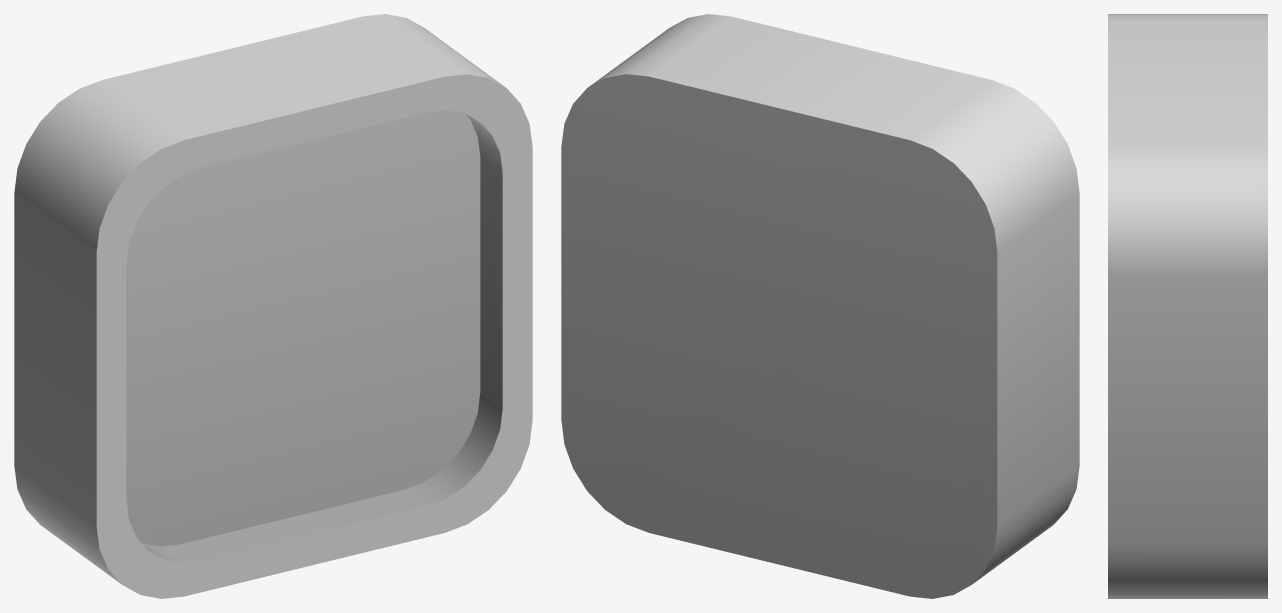
File: placeholder square.fbx
3 views of the same model, side by side, from view 1: azimuth 30°, elevation 25°; view 2: azimuth 150°, elevation 25°; view 3: azimuth 270°, elevation 25° (orthographic). The views are drawn at different scales.
Visible parts, largest first — view 1: placeholder_square; view 2: placeholder_square; view 3: placeholder_square.
Part boxes in pixels (x1,y1,x2,y2): placeholder_square: [14, 14, 532, 598]; placeholder_square: [561, 14, 1079, 598]; placeholder_square: [1108, 14, 1267, 598].
Size of the model in its own units: 4.27 by 4.27 by 1.39.
